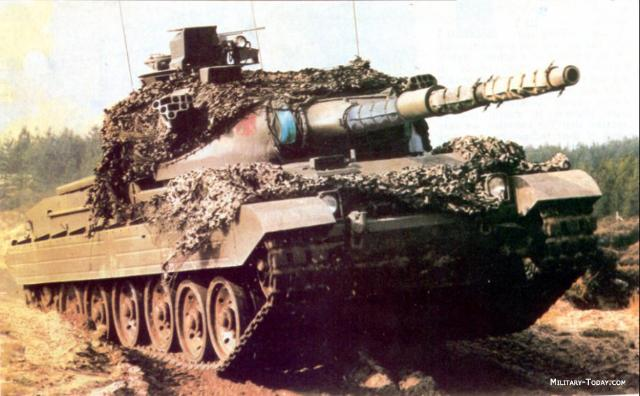tank: (18, 39, 576, 343)
